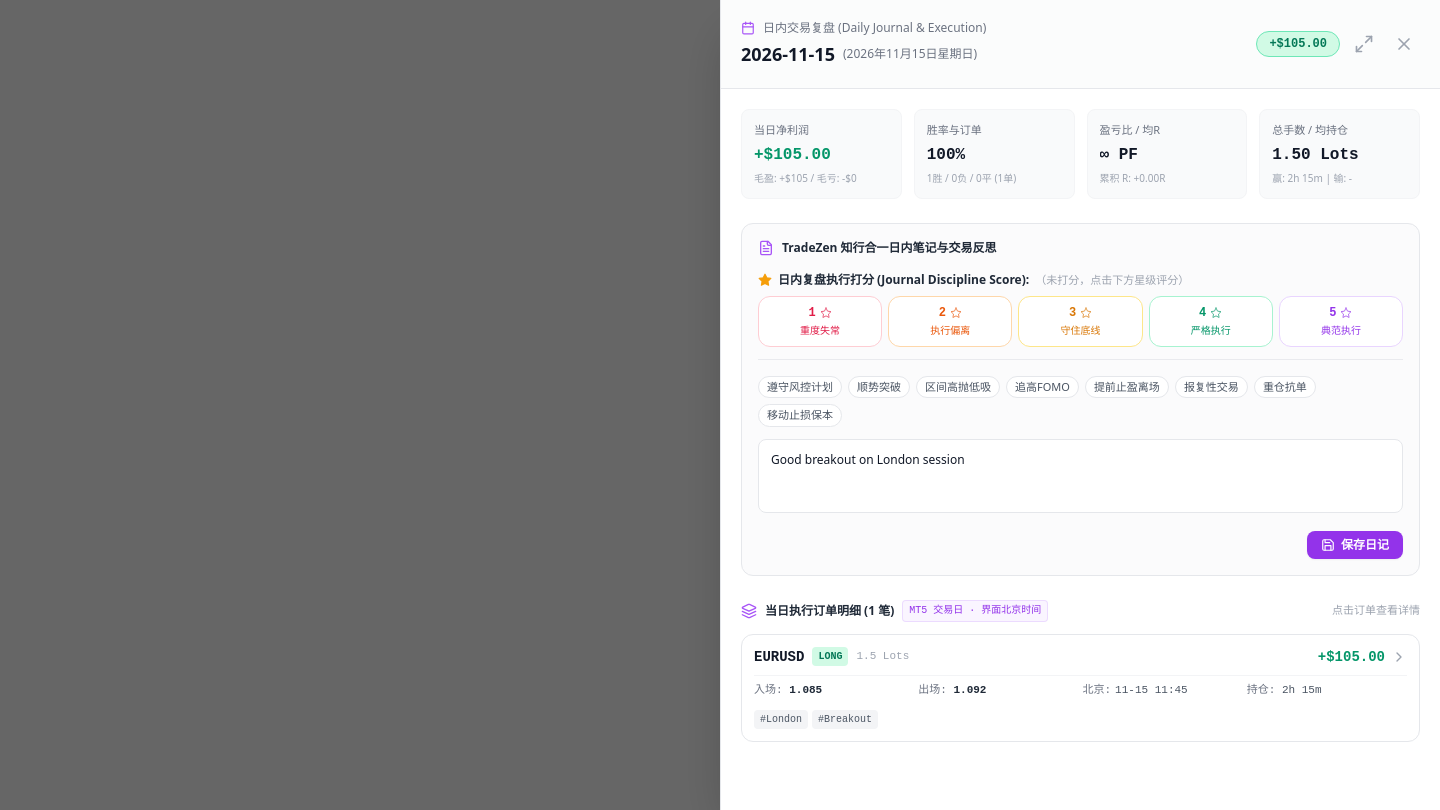
Test: CalendarDayDrawer › toggles maximize and restore full width
Click to maximize
Click the button titled "全屏铺满抽屉": [1364, 44] box [1348, 28, 1380, 60]
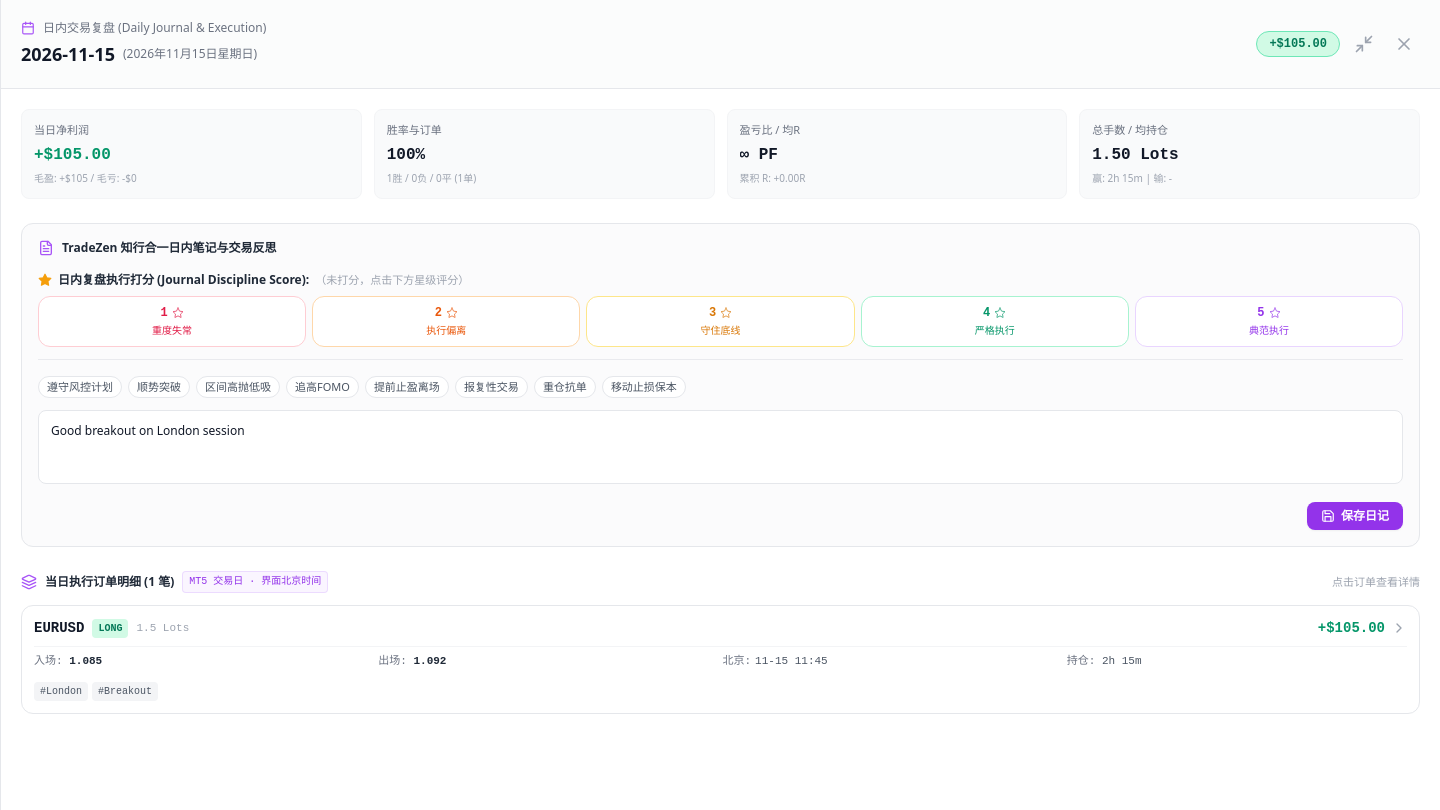
Check: the button titled "还原抽屉宽度" is shown
Click to restore
Click the button titled "还原抽屉宽度": [1364, 44] box [1348, 28, 1380, 60]
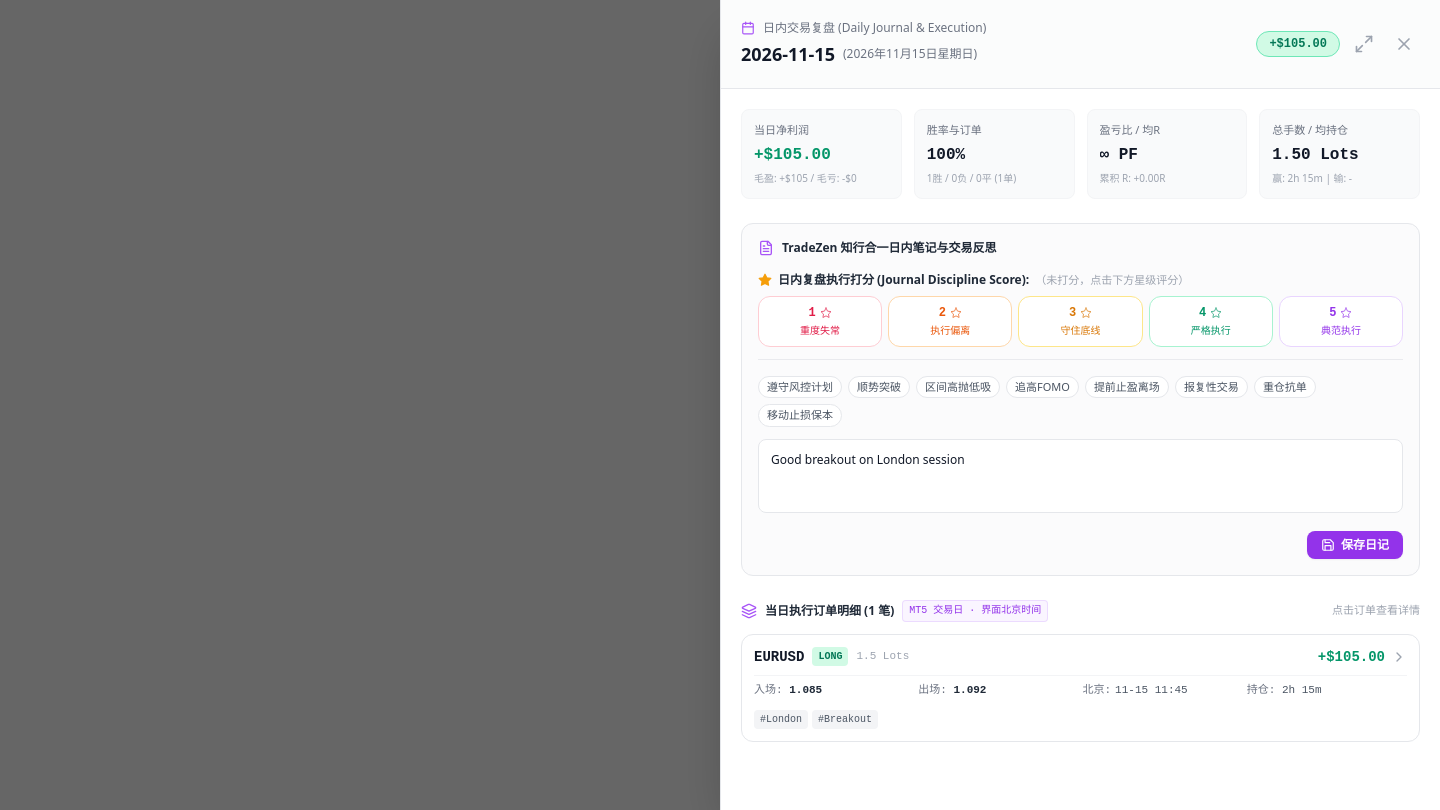
Check: the button titled "全屏铺满抽屉" is shown, box [1348, 28, 1380, 60]
